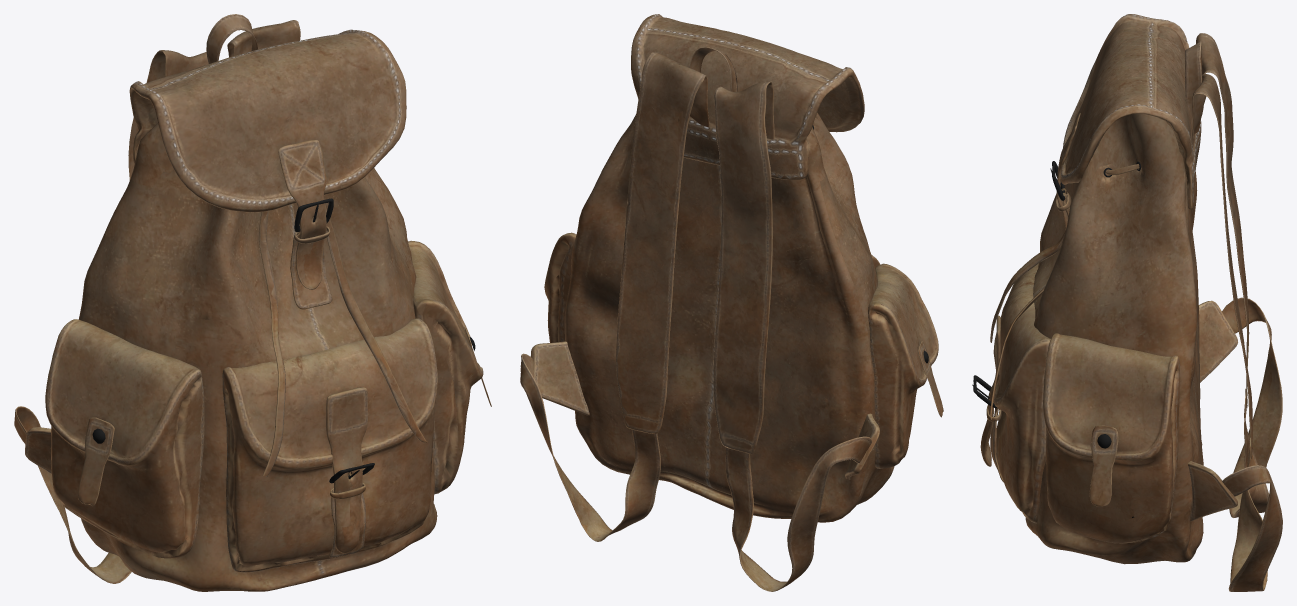
File: backpack.obj
3 views of the same model, side by side, from view 1: azimuth 30°, elevation 25°; view 2: azimuth 150°, elevation 25°; view 3: azimuth 270°, elevation 25° (orthographic). The views are drawn at different scales.
Parts seen in each view (by area): view 1: desirefx_me_1_mesh0_mesh0000; view 2: desirefx_me_1_mesh0_mesh0000; view 3: desirefx_me_1_mesh0_mesh0000.
Boxes of the visible parts, x1=… form: desirefx_me_1_mesh0_mesh0000: x1=14, y1=14, x2=491, y2=591; desirefx_me_1_mesh0_mesh0000: x1=520, y1=14, x2=943, y2=591; desirefx_me_1_mesh0_mesh0000: x1=972, y1=14, x2=1282, y2=591.
Size of the model in its own units: 7.76 by 10 by 5.46.
1 material, 1 textured.
